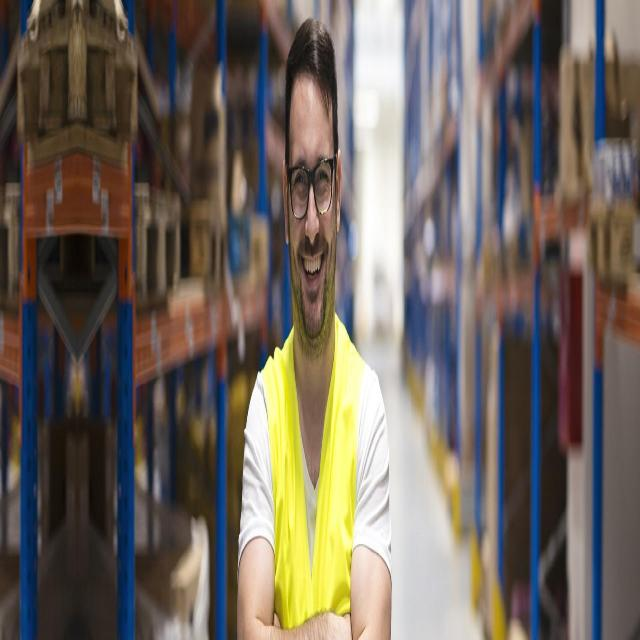Reflective-Jacket: (253, 317, 369, 635)
